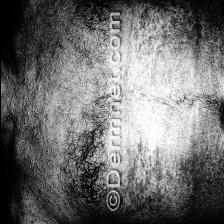Non-Cancerous Skin Condition: (122, 2, 224, 216), (18, 0, 108, 224)
